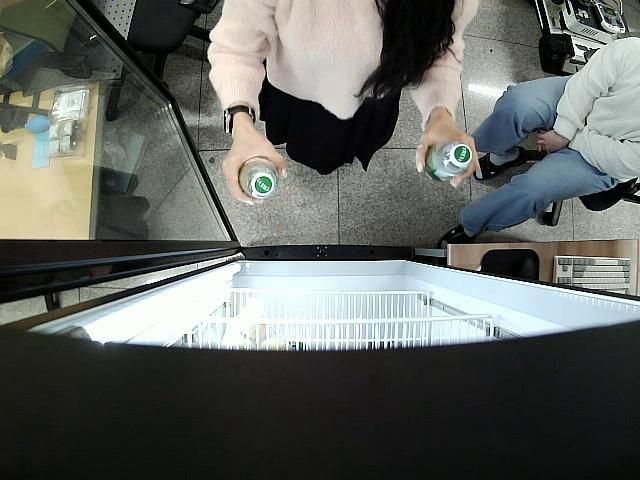18_trevi: (424, 140, 469, 183), (238, 157, 278, 198)
